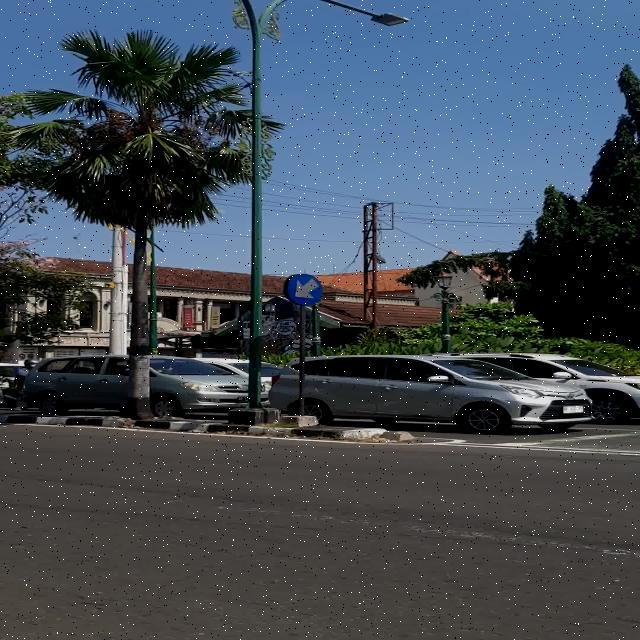Lajur Kiri: (286, 274, 322, 305)
